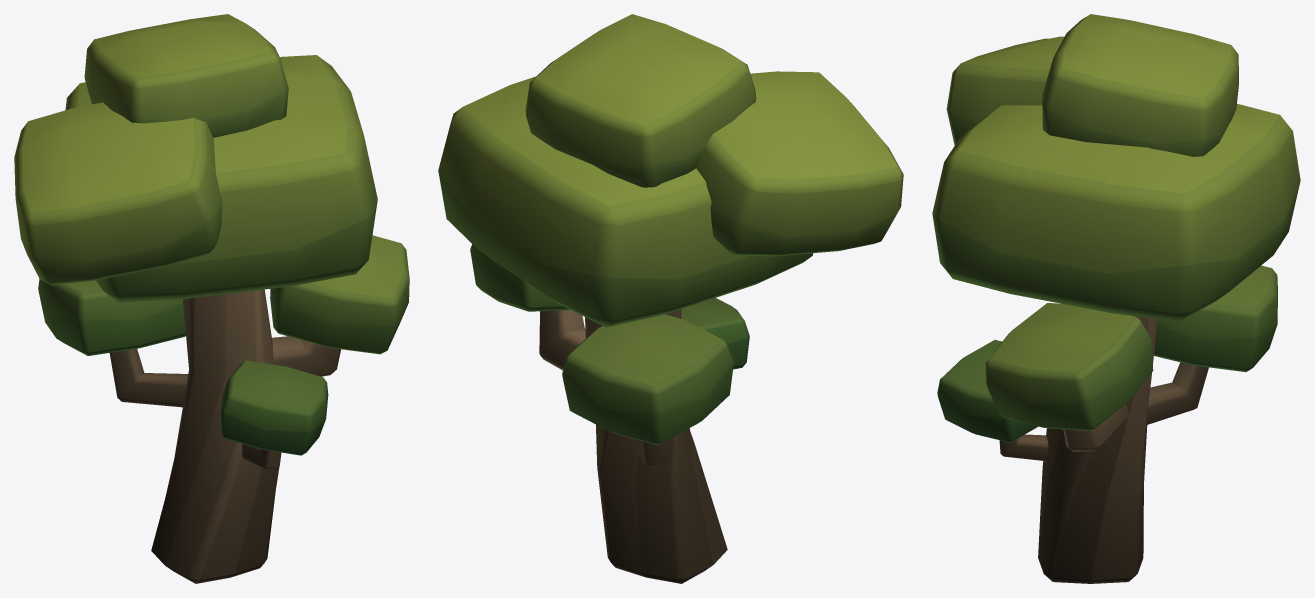
The model's file is tree.fbx.
The picture shows the model from 3 angles, left to right: view 1: azimuth 30°, elevation 25°; view 2: azimuth 150°, elevation 25°; view 3: azimuth 270°, elevation 25°; orthographic projection. The views are drawn at different scales.
Parts seen in each view (by area): view 1: tree; view 2: tree; view 3: tree.
Part boxes in pixels (x1,y1,x2,y2): tree: [14, 14, 409, 583]; tree: [438, 14, 903, 583]; tree: [932, 14, 1300, 583].
Bounding box in the file's own units: 687 × 842 × 536.
Materials: 1 (1 with a texture image).
